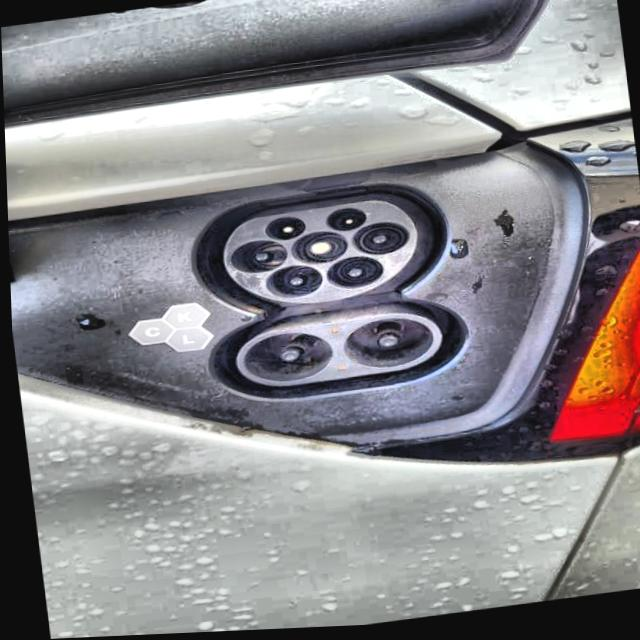inlet: (221, 204, 415, 305)
inlet-above-left: (263, 219, 303, 243)
inlet-above-right: (324, 210, 364, 234)
inlet-below-left: (264, 268, 320, 301)
inlet-below-right: (324, 259, 382, 293)
inlet-center: (288, 234, 346, 267)
inlet-center-left: (228, 242, 285, 275)
inlet-center-right: (349, 225, 407, 258)
